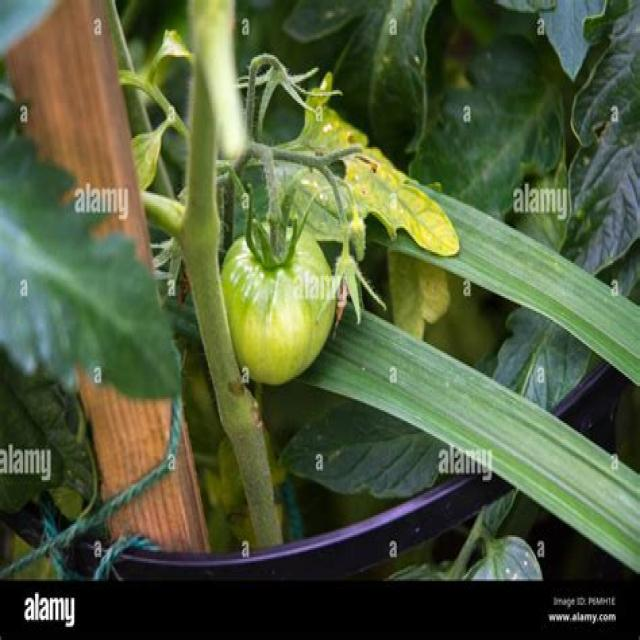Tomato: (219, 206, 359, 387)
